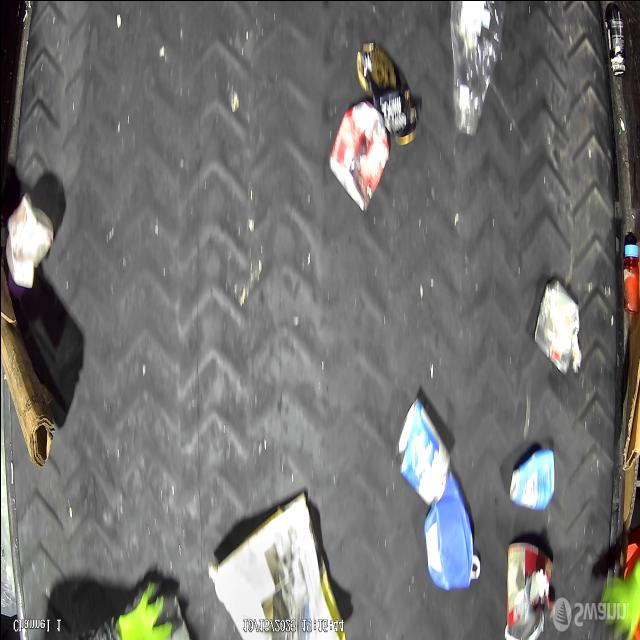can: (328, 96, 391, 212), (394, 395, 450, 505), (502, 535, 554, 640), (532, 276, 580, 378)
plastic_bottle: (447, 0, 508, 140)
